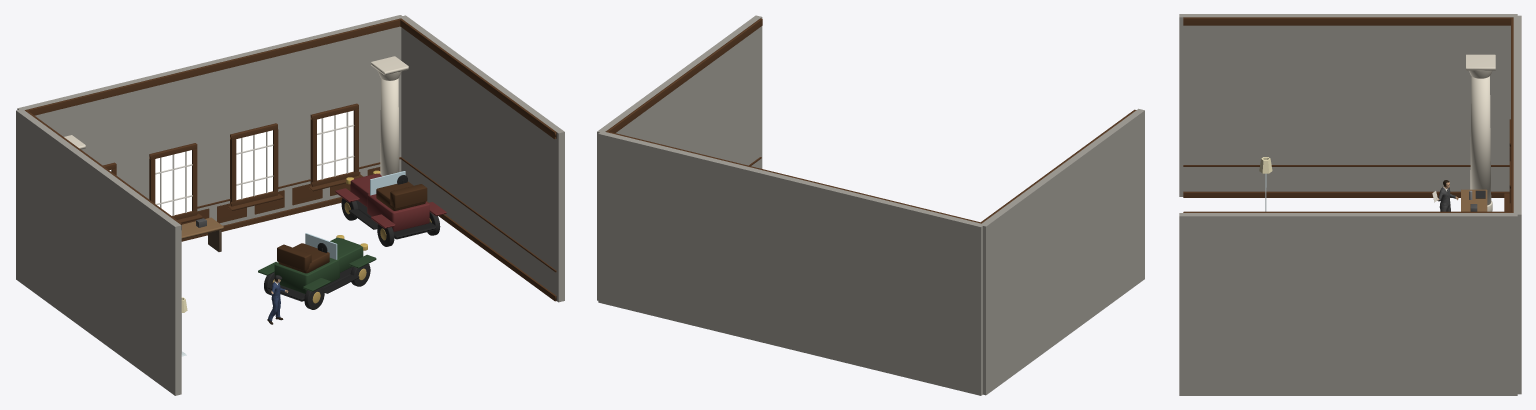
Rendered from tito.glb.
The picture shows the model from 3 angles, left to right: view 1: azimuth 30°, elevation 25°; view 2: azimuth 150°, elevation 25°; view 3: azimuth 270°, elevation 25°; orthographic projection. The views are drawn at different scales.
Visible parts, largest first — view 1: wall_back, wall_left, wall_right, box.006, pane.003, pane.002, pane.001, cyl.030, box.008, box.071, box.057, box (+11 smaller); view 2: wall_back, wall_left, wall_right, box.008, box.006; view 3: wall_right, wall_left, box.007, wall_back, cyl.027, box.001, box.008, box.004, box.006, box.093, box.083.
Part boxes in pixels (box(x1,y1,x2,y2)): wall_back: box(17, 15, 403, 225); wall_left: box(16, 109, 181, 395); wall_right: box(401, 15, 564, 302); box.006: box(25, 18, 400, 115); pane.003: box(317, 110, 353, 180); pane.002: box(236, 130, 272, 199); pane.001: box(155, 150, 191, 215); cyl.030: box(380, 78, 399, 176); box.008: box(400, 18, 556, 139); box.071: box(367, 193, 429, 231); box.057: box(274, 258, 339, 293); box: box(181, 197, 342, 241); wall_back: box(598, 131, 984, 395); wall_left: box(982, 108, 1144, 395); wall_right: box(597, 15, 762, 300); box.008: box(605, 18, 762, 132); box.006: box(606, 131, 980, 223); wall_right: box(1179, 213, 1517, 395); wall_left: box(1179, 14, 1517, 196); box.007: box(1183, 17, 1513, 25); wall_back: box(1513, 15, 1521, 394); cyl.027: box(1470, 76, 1491, 205); box.001: box(1183, 191, 1509, 197); box.008: box(1183, 211, 1513, 212); box.004: box(1183, 165, 1509, 166); box.006: box(1511, 17, 1513, 212); box.093: box(1466, 54, 1495, 70); box.083: box(1461, 189, 1487, 211).
Size of what is drawn, in the model's own units: 14.48 by 6.04 by 10.48.
